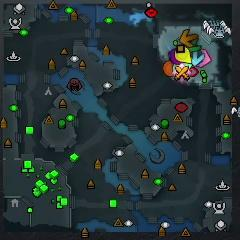Other: (173, 64, 192, 84)
p3: (170, 49, 181, 64)
p4: (175, 47, 191, 64)
p5: (163, 60, 175, 77)
x1: (197, 50, 211, 68)
x3: (190, 50, 205, 66)
x4: (187, 36, 202, 51)
x5: (180, 29, 198, 47)
